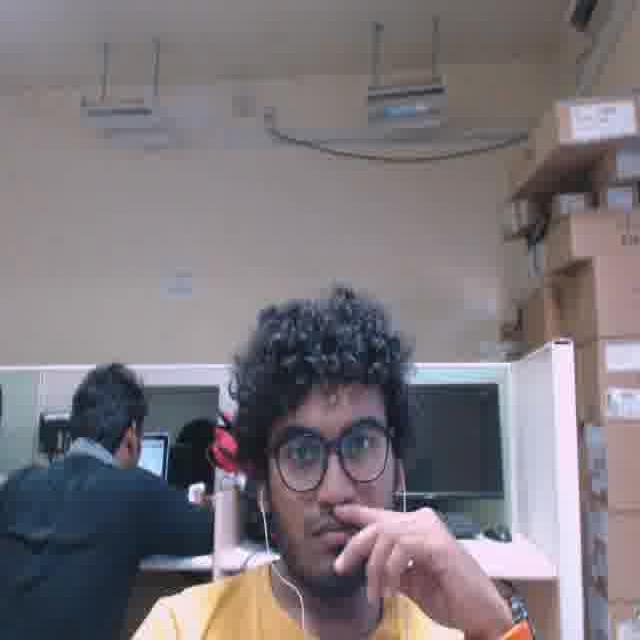Boredom: (269, 372, 391, 581)
